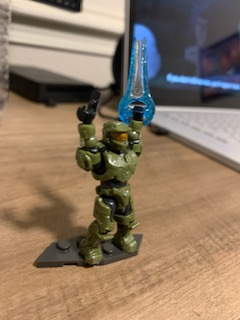chief: (74, 101, 141, 268)
spartan: (72, 99, 139, 266)
up: (74, 106, 144, 185)
